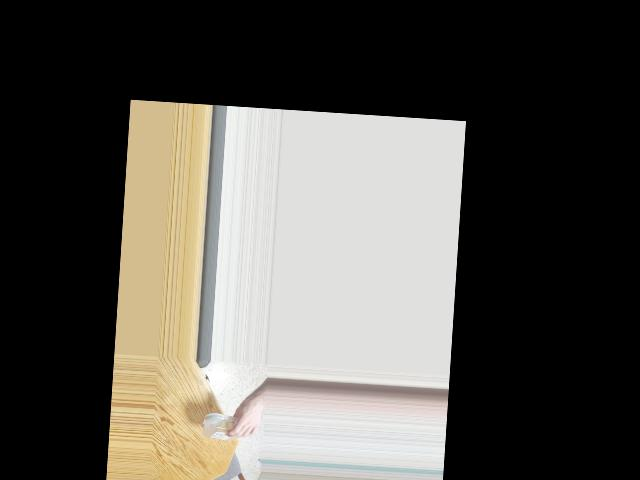cheese: (201, 395, 242, 450)
